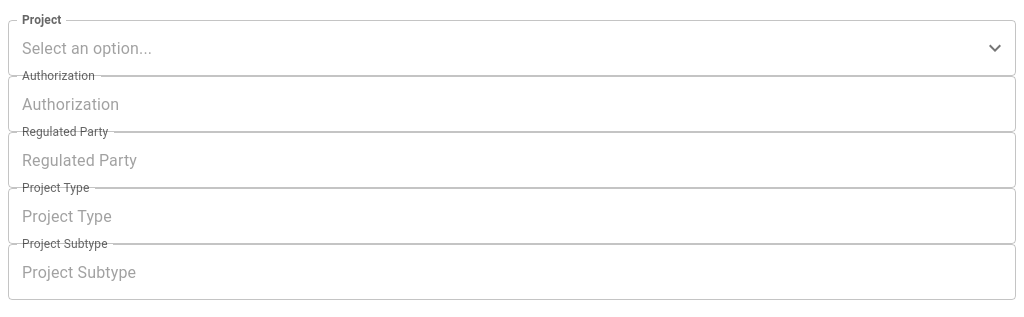
it: ProjectDetailsForm Component › allows selecting a project from the project list
Click the dropdown named "project" at [497, 48], box [17,29,977,67]
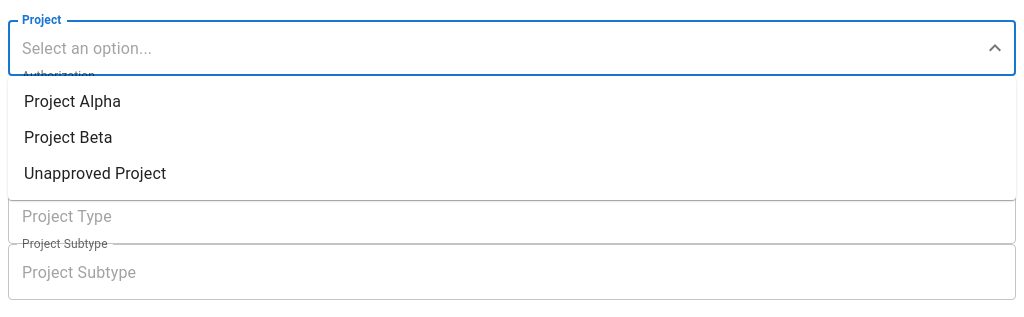
Click the text "Project Alpha" at [73, 102], box [24,90,121,114]
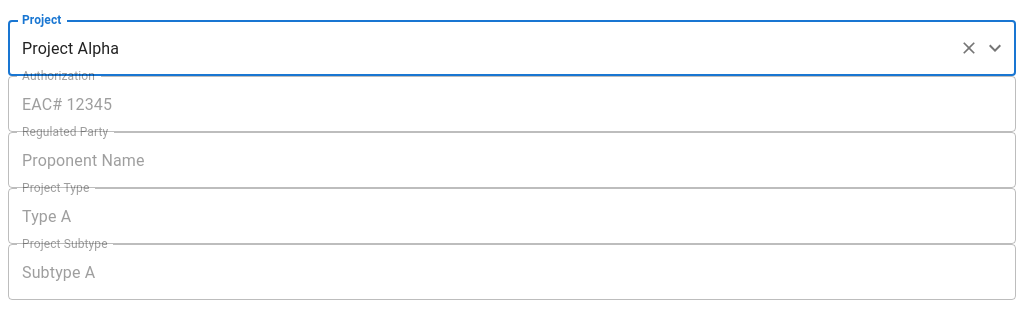
expect the dropdown named "project" holds "Project Alpha": met, box [17,29,951,67]
expect the field named "authorization" next to "Authorization" holds "EAC# 12345": met, box [8,76,1016,132]
expect the field named "regulatedParty" next to "Regulated Party" holds "Proponent Name": met, box [8,132,1016,188]
